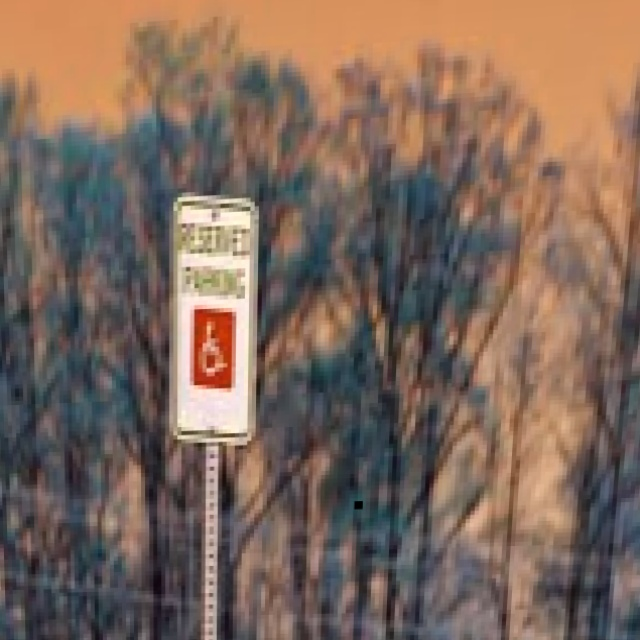ISA: (196, 317, 225, 378)
